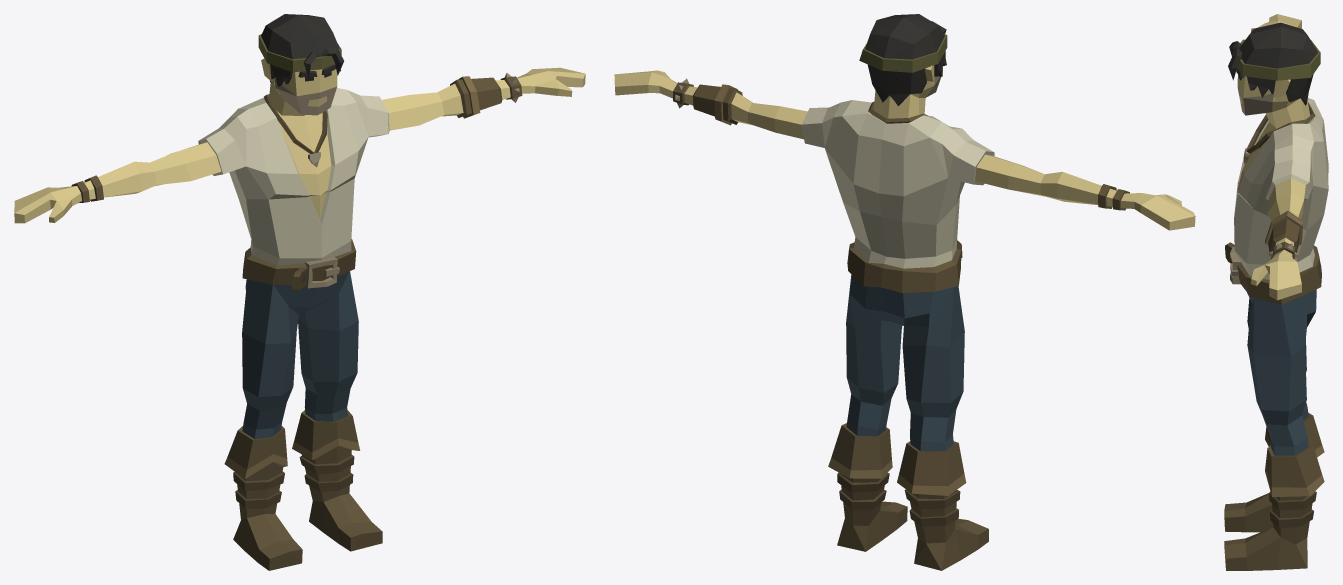
Rendered from Pirate_4.fbx.
The picture shows the model from 3 angles, left to right: view 1: azimuth 30°, elevation 25°; view 2: azimuth 150°, elevation 25°; view 3: azimuth 270°, elevation 25°; orthographic projection. The views are drawn at different scales.
Parts seen in each view (by area): view 1: Pirate_4; view 2: Pirate_4; view 3: Pirate_4.
Boxes of the visible parts, x1,y1,x2,y2 form: Pirate_4: [14, 14, 585, 570]; Pirate_4: [614, 14, 1195, 570]; Pirate_4: [1224, 14, 1328, 570].
Size of the model in its own units: 205 by 178 by 32.7.
